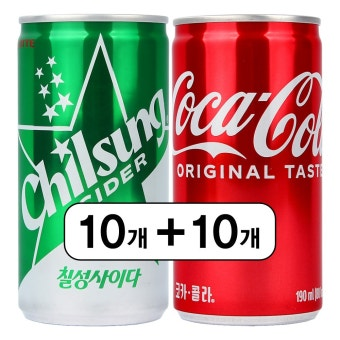paper: (170, 15, 330, 329), (13, 11, 169, 326)
